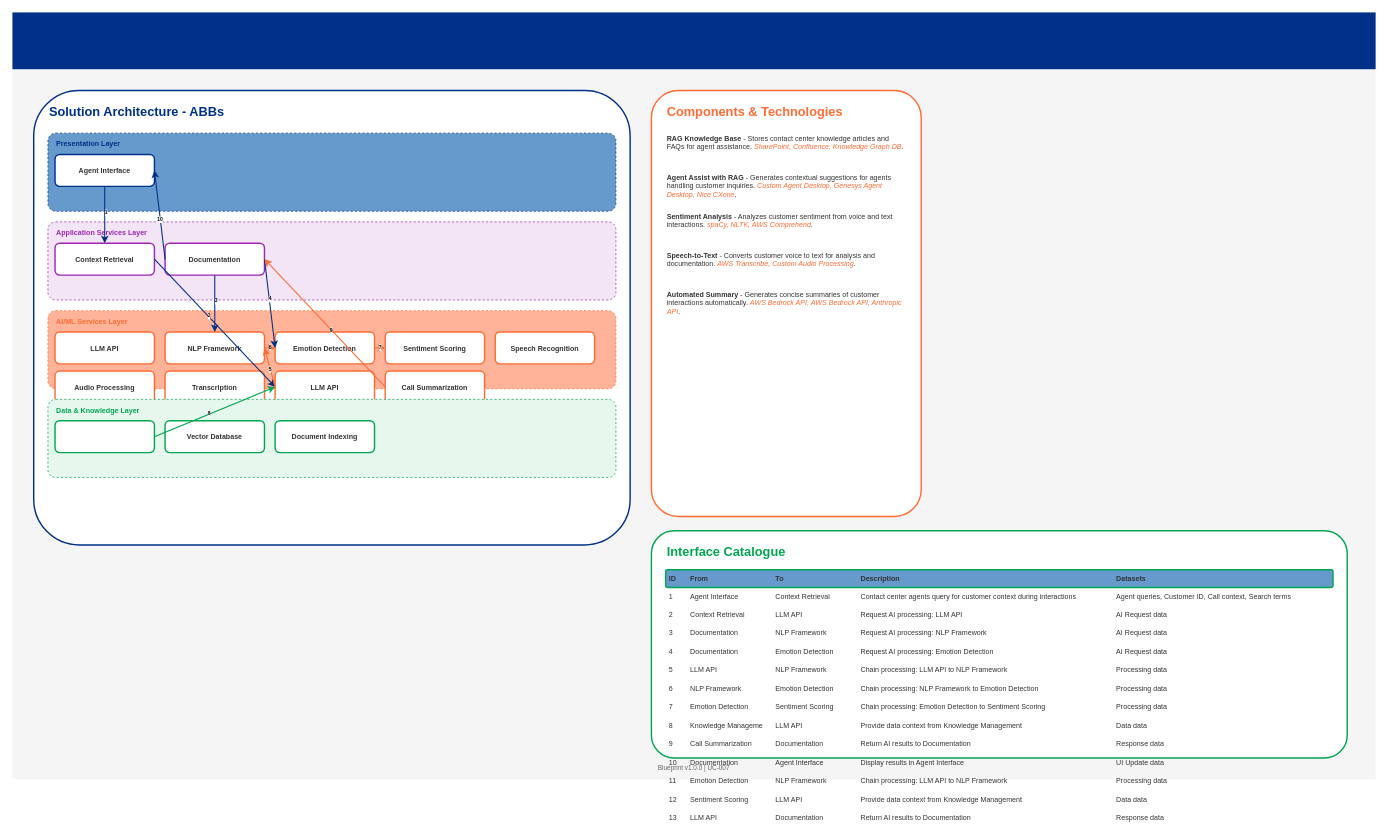
Some shapes in this 1387 by 839 pixel diagram are drawn without their labels. The centre of each missing label's shape, as x and y in pixels:
Knowledge Management: the point at 104,436
Use Case Blueprint: UC-007 Contact Centre: the point at 693,40
